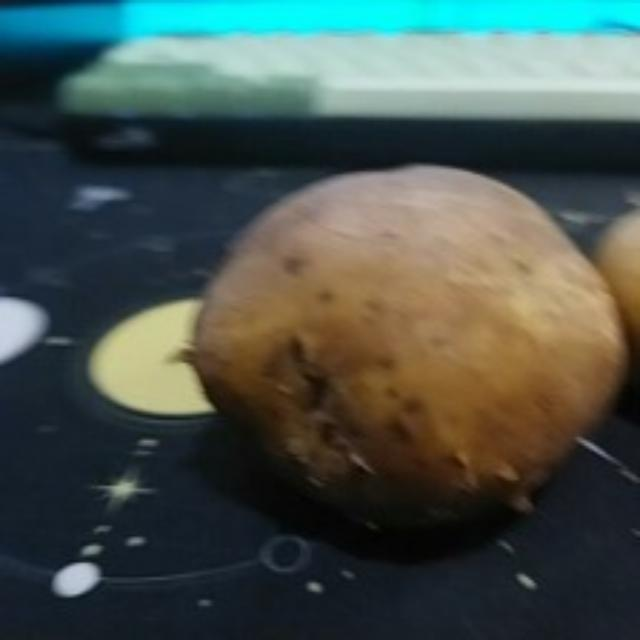Damaged potato: (176, 162, 638, 548)
